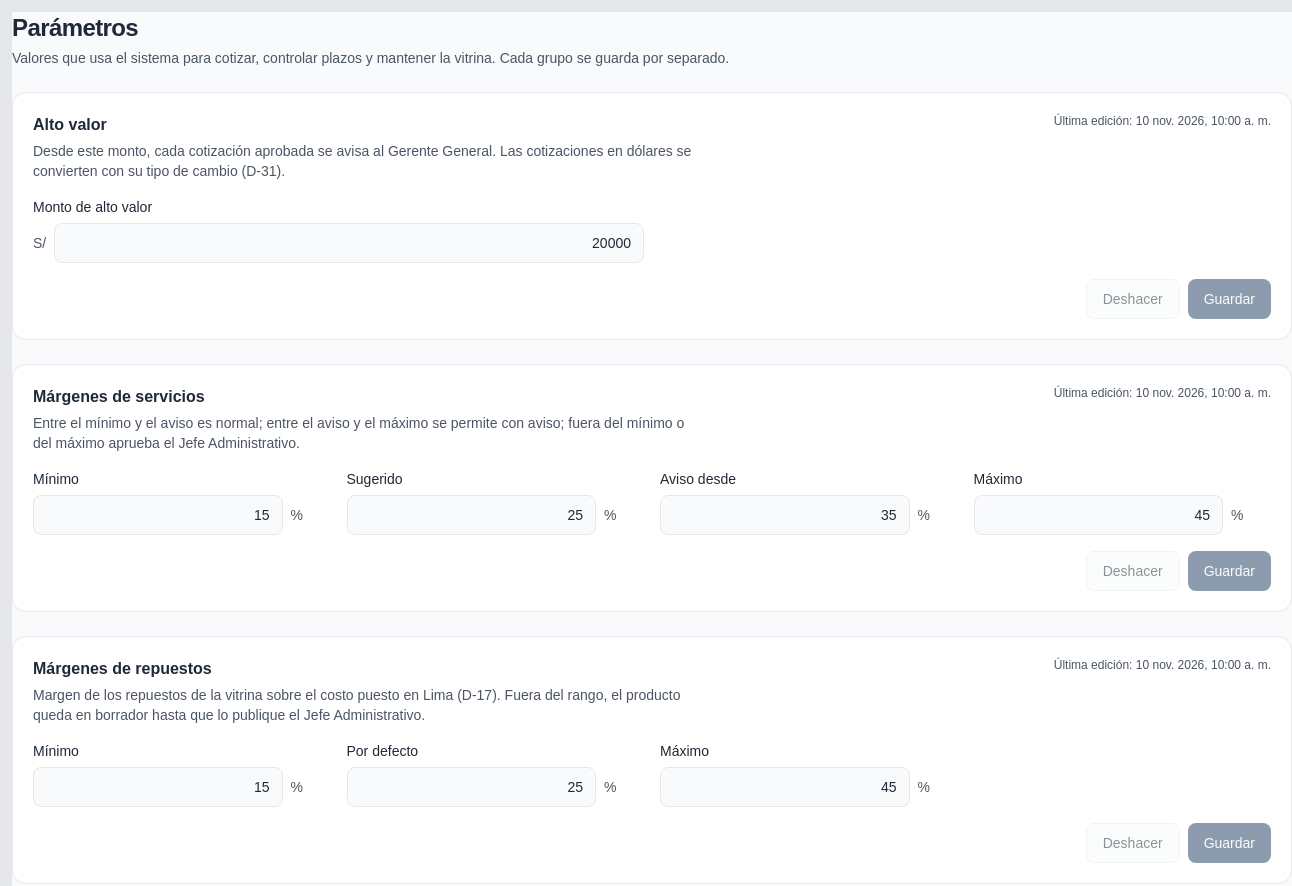
Test: Pantalla de parámetros (RF-87) › no guarda márgenes fuera de orden
Expected: the field labelled "Monto de alto valor" is shown, [54,223,644,263]
Replace the text in the field labelled "Mínimo" below "Sugerido" with "30" at {"x": 158, "y": 515}, box [33,495,282,535]
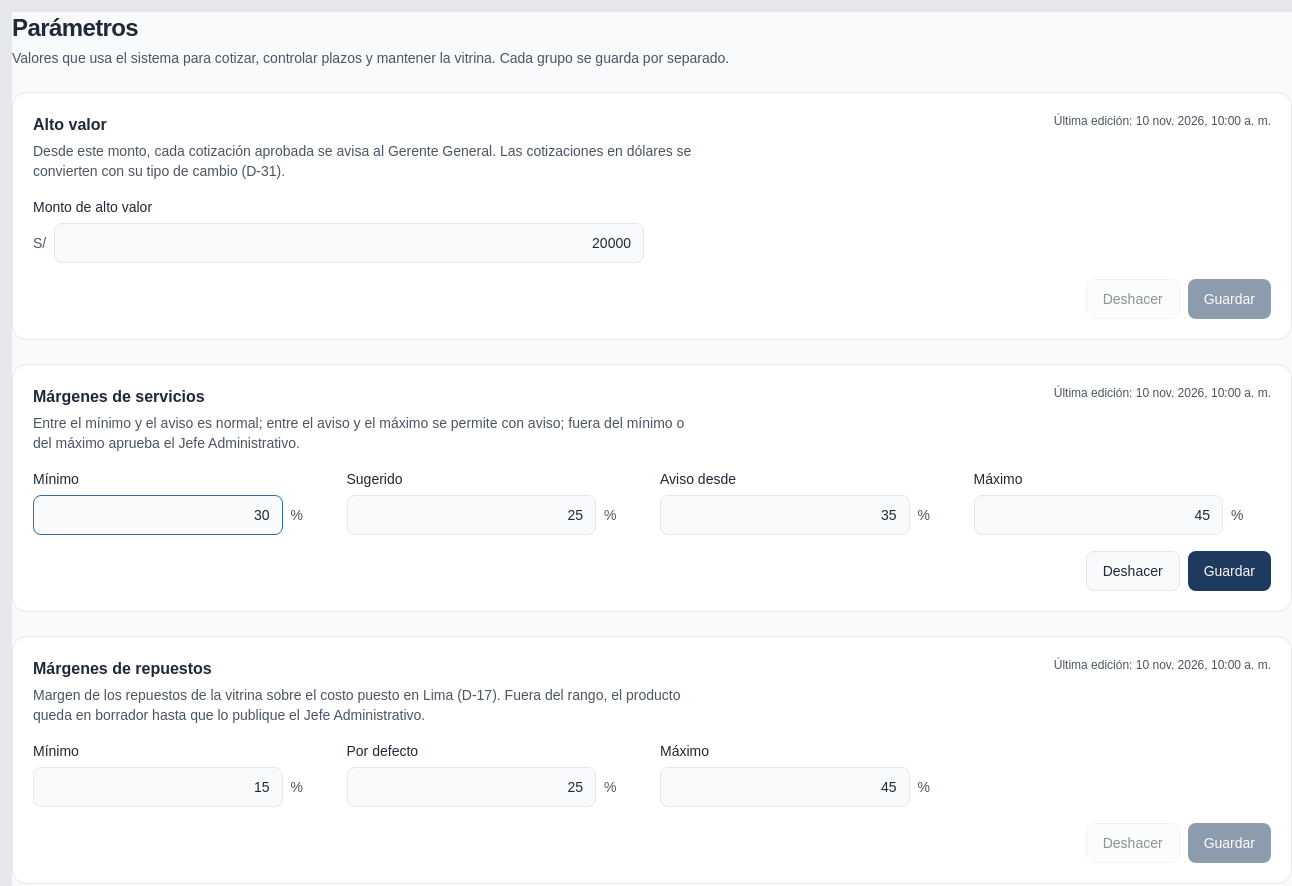
Click the 2nd button "Guardar" at {"x": 1229, "y": 571}, box [1188,551,1271,591]
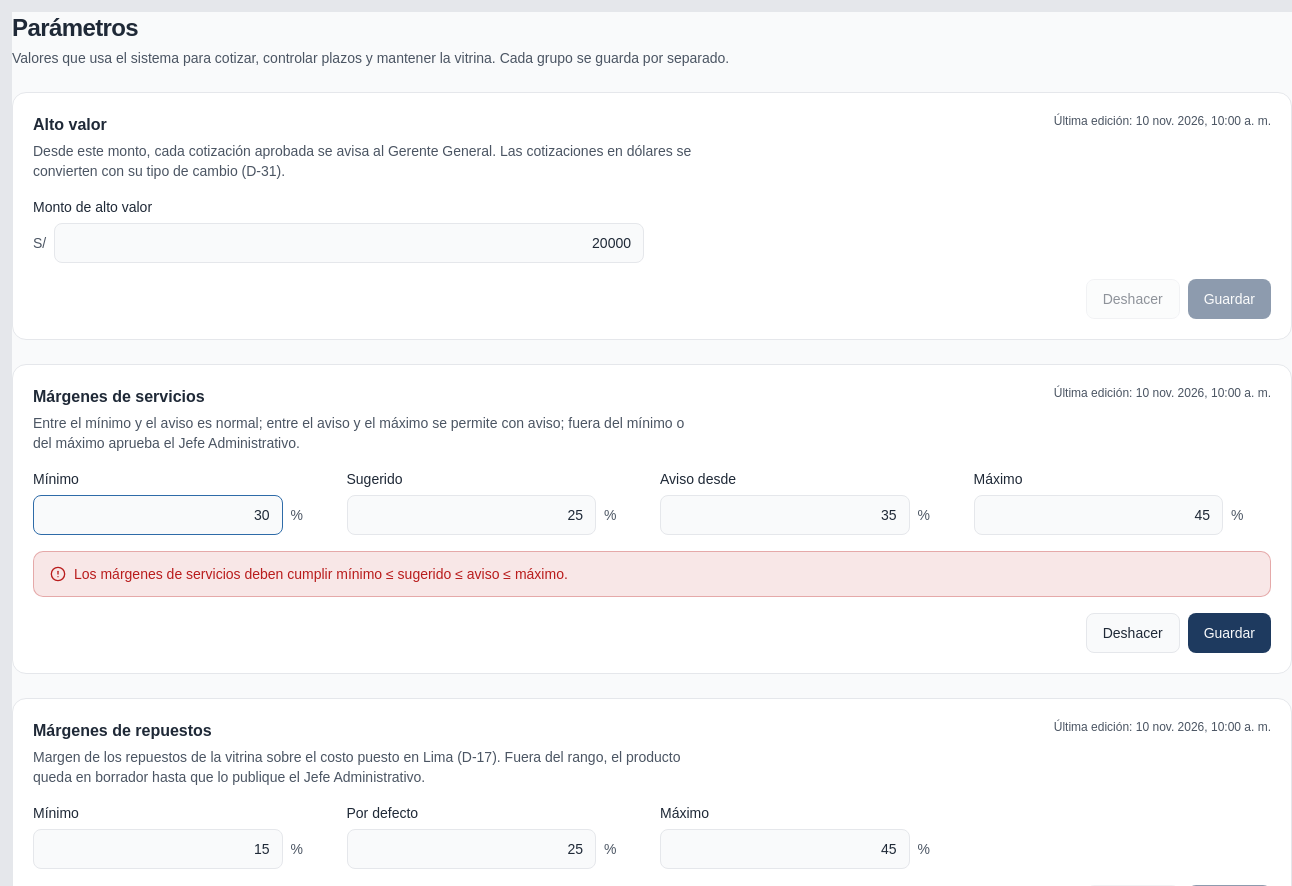
Expected: the text "mínimo ≤ sugerido" is shown, [74,566,568,582]
